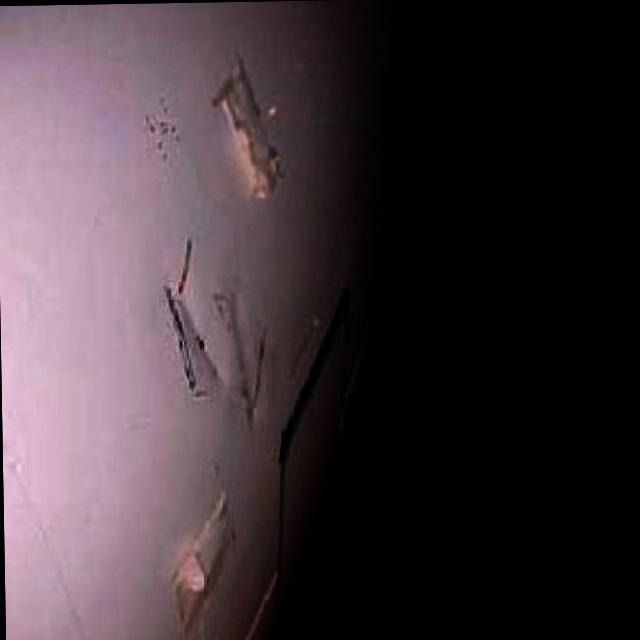dent: (229, 286, 268, 435), (173, 298, 220, 390)
